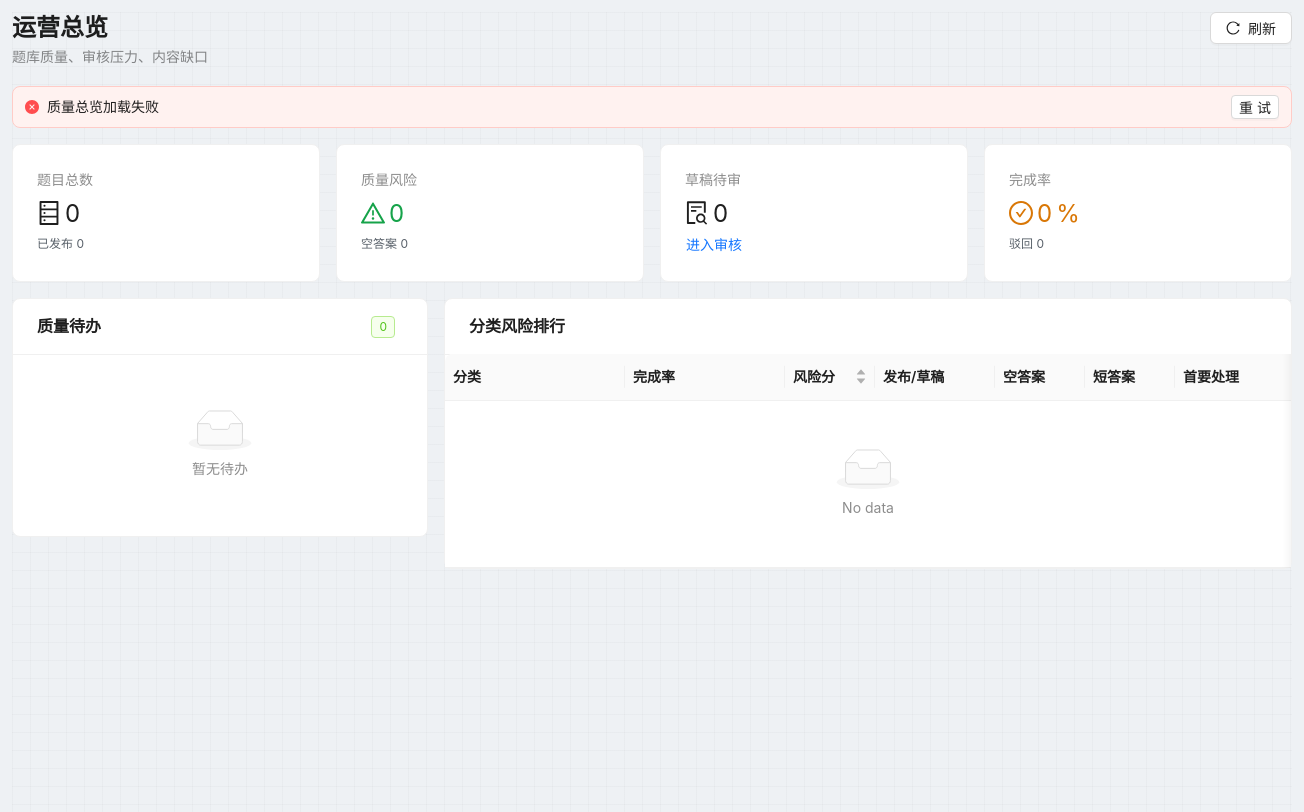
Test: AdminDashboard › uses silent loading and recovers from inline quality summary failure
Expected: the text "质量总览加载失败" is shown, [47,98,159,115]
Click the button "重 试". click: (1255, 107)
box: [1231,95,1279,119]
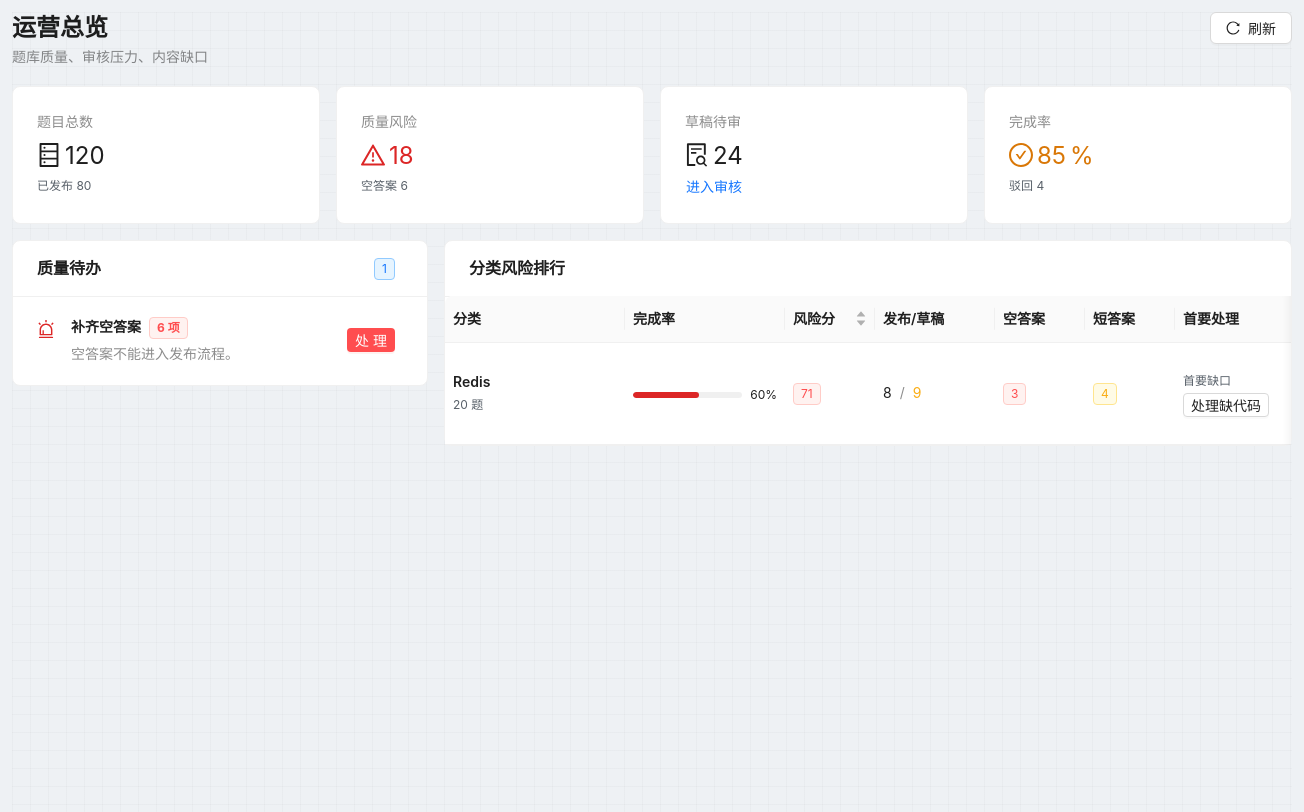
Expected: the text "Redis" is shown, [453,373,490,390]
Expected: the text "质量总览加载失败" is gone
